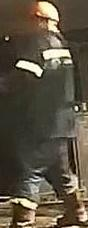helmet: (27, 1, 61, 23)
vest: (19, 33, 78, 141)
